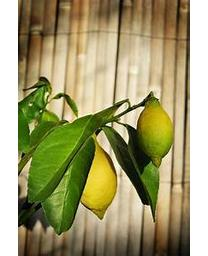lemon: (79, 145, 117, 220), (136, 97, 175, 167)
